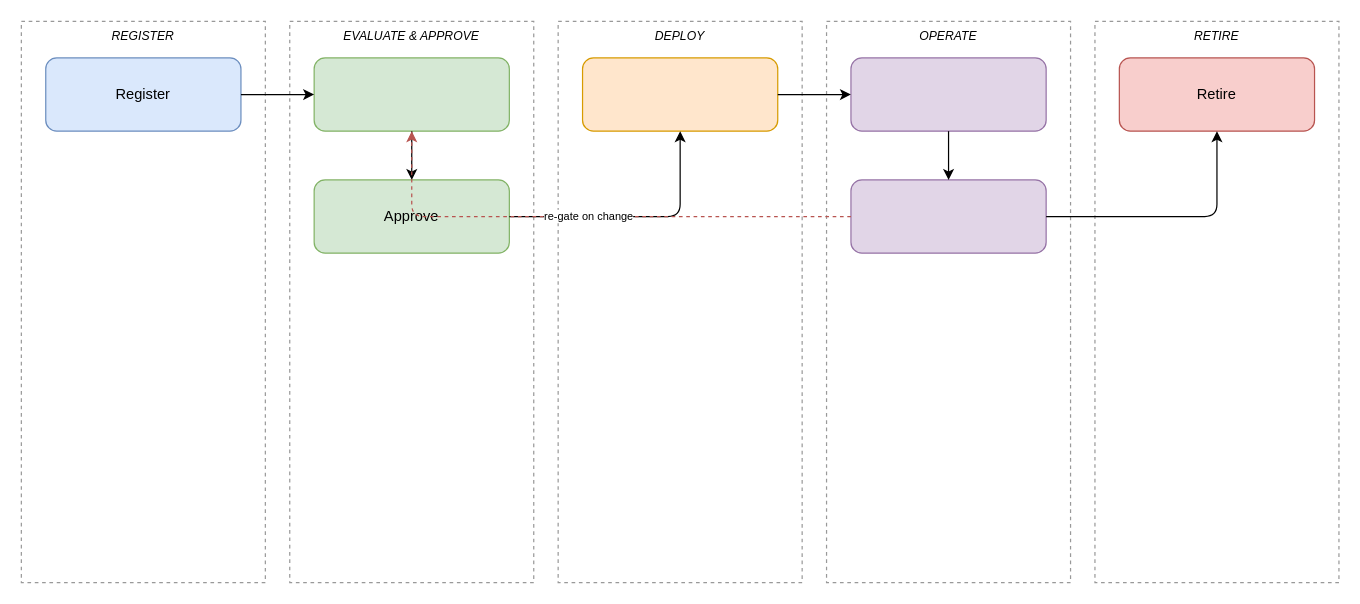
The diagram is 1360 pixels wide and 604 high, and some of its shapes have lost their labels. Each missing label, with the centre of its shape:
"Deploy (canary)" goes at point (679, 94).
"Evaluate (gated)" goes at point (411, 94).
"Monitor" goes at point (948, 94).
"Re-evaluate" goes at point (948, 216).
